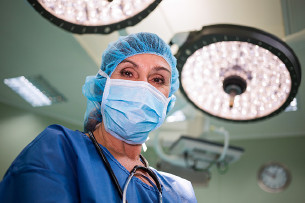face_mask: (102, 53, 171, 136)
